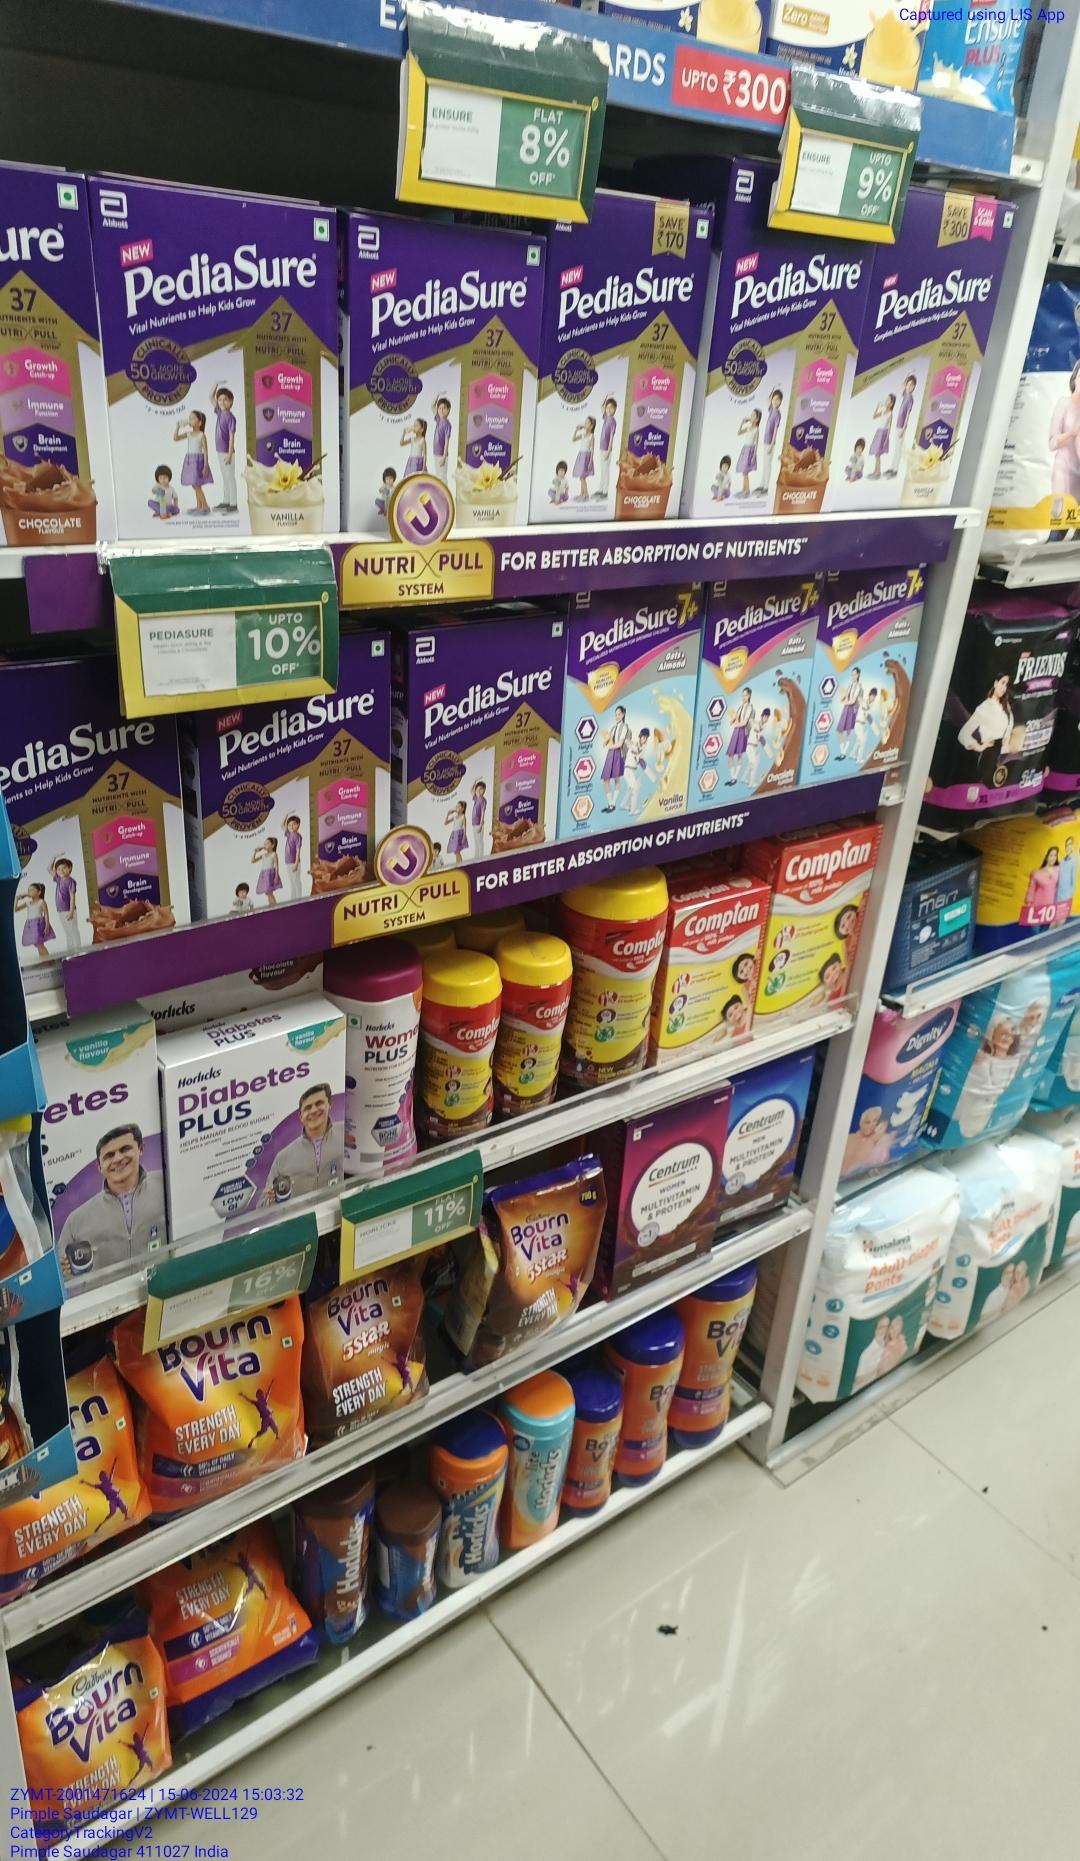BOURN_VITA_200_G_JAR: (573, 1356, 620, 1518)
BOURN_VITA_500_G_JAR: (685, 1270, 756, 1459), (622, 1324, 681, 1488)
BOURN_VITA_FIVE_STAR_MAGIC_750_G_POUCH: (465, 1162, 608, 1353), (311, 1260, 438, 1436)
COMPLAN_CHOCOLATE_200_GMS_JAR: (423, 951, 501, 1143), (503, 932, 575, 1112)
COMPLAN_CHOCOLATE_500_GMS_JAR: (579, 873, 665, 1086)
COMPLAN_KESAR_BADAM_200_GMS_PACK: (666, 895, 768, 1056)
COMPLAN_KESAR_BADAM_500_GMS_PACK: (768, 824, 883, 1028)
HORLICKS_LITE_REGULAR_MALT_500_GM_JAR: (508, 1376, 570, 1550)
HORLICK_CHOCOLATE_500_G_JAR: (307, 1477, 375, 1645)
HORLICK_CLASSIC_MALT_500_G_JAR: (444, 1412, 504, 1586)
PEDIASURE_7_PLUS_CHOCOLATE_400_G_PACK: (699, 574, 814, 798), (816, 564, 917, 778)
PEDIASURE_CHOCOLATE_500_G_PACK: (0, 664, 181, 942), (202, 684, 387, 902), (414, 623, 562, 861)
PEDIASURE_VANILLA_500_G_PACK: (103, 184, 345, 537), (350, 216, 537, 526)
